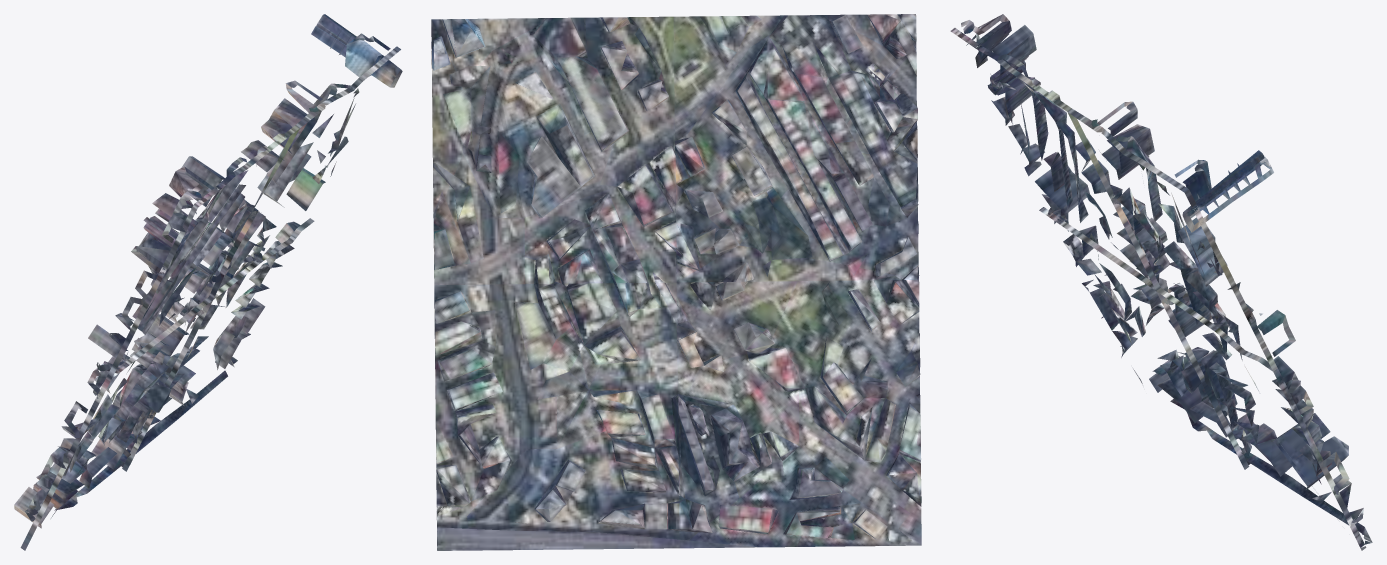
The picture shows the model from 3 angles, left to right: view 1: azimuth 30°, elevation 25°; view 2: azimuth 150°, elevation 25°; view 3: azimuth 270°, elevation 25°; orthographic projection. The views are drawn at different scales.
Bounding box in the file's own units: 612 × 580 × 523.
Materials: 1 (1 with a texture image).
